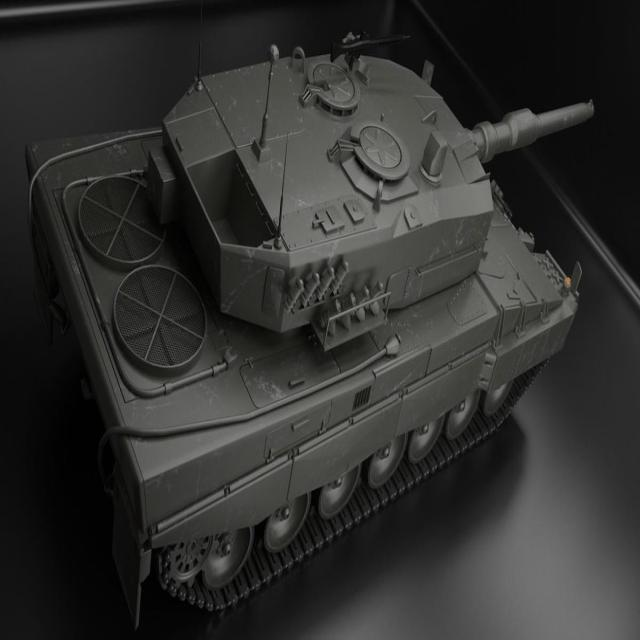Tanks: (14, 51, 560, 620)
